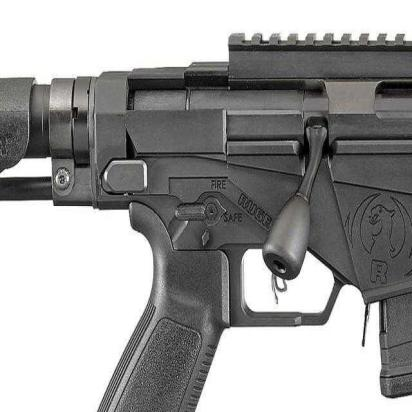Gun: (0, 22, 412, 412)
